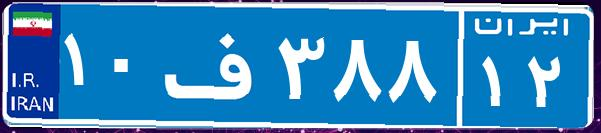0: (110, 28, 158, 105)
1: (57, 26, 110, 107), (475, 38, 525, 113)
2: (525, 38, 570, 115)
3: (273, 28, 330, 110)
8: (385, 28, 445, 110), (330, 28, 385, 110)
ف: (158, 15, 273, 115)
